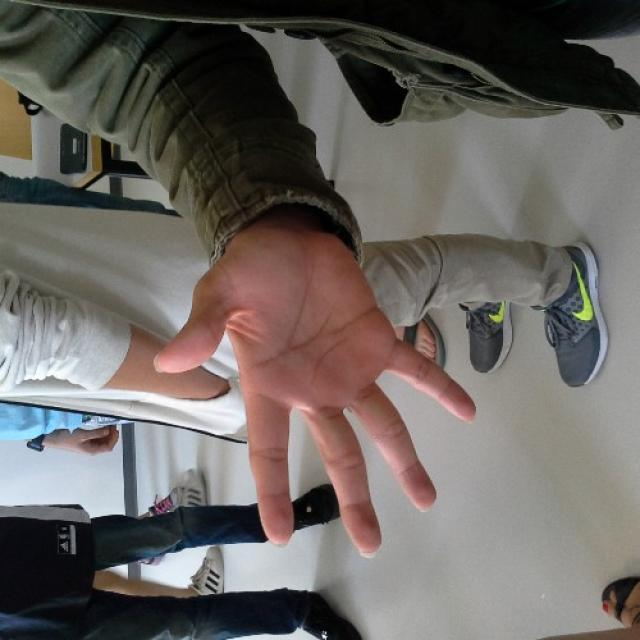paper: (152, 248, 484, 558)
